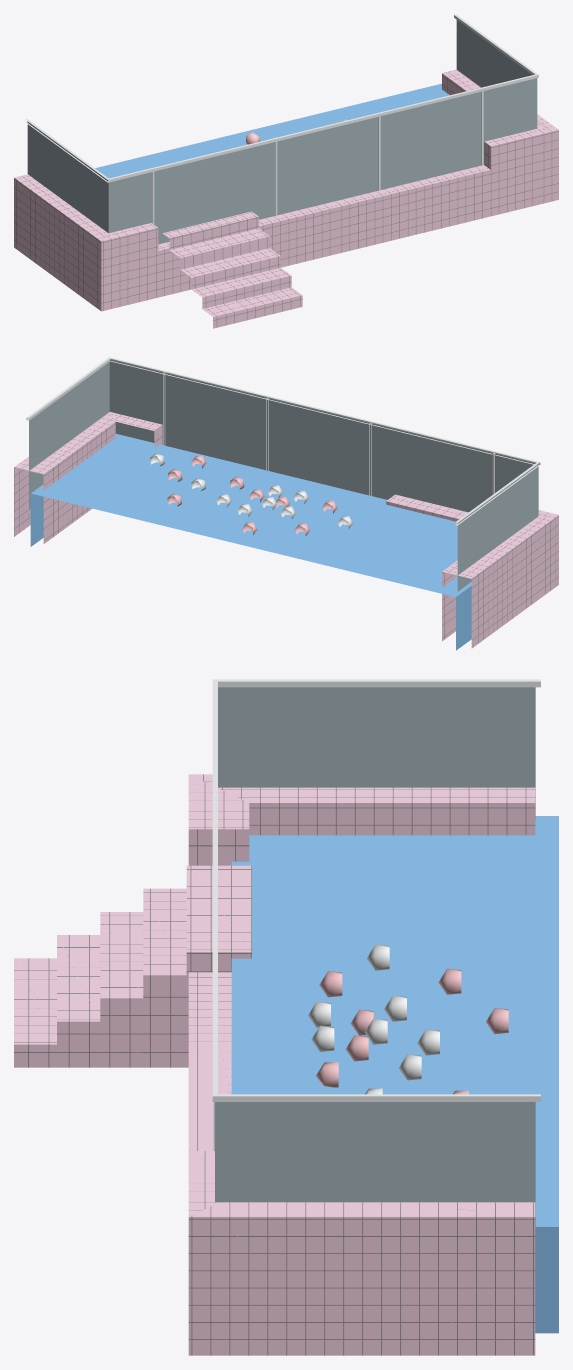
Rendered from M_yongchi01.FBX.
The picture shows the model from 3 angles, top to bottom: view 1: azimuth 30°, elevation 25°; view 2: azimuth 150°, elevation 25°; view 3: azimuth 270°, elevation 25°; orthographic projection. The views are drawn at different scales.
Parts seen in each view (by area): view 1: M_yongchi01_01, M_yongchi01_02, M_yongchi01_04, M_yongchi01_03; view 2: M_yongchi01_02, M_yongchi01_04, M_yongchi01_01, M_yongchi01_03, M_yongchi01_05; view 3: M_yongchi01_01, M_yongchi01_04, M_yongchi01_02, M_yongchi01_03, M_yongchi01_05.
Part boxes in pixels (x1=…): M_yongchi01_01: x1=14, y1=69, x2=558, y2=328; M_yongchi01_02: x1=27, y1=20, x2=537, y2=244; M_yongchi01_04: x1=95, y1=83, x2=449, y2=178; M_yongchi01_03: x1=25, y1=14, x2=538, y2=224; M_yongchi01_02: x1=29, y1=359, x2=538, y2=591; M_yongchi01_04: x1=30, y1=433, x2=471, y2=650; M_yongchi01_01: x1=14, y1=412, x2=558, y2=648; M_yongchi01_03: x1=26, y1=357, x2=540, y2=525; M_yongchi01_05: x1=150, y1=453, x2=353, y2=535; M_yongchi01_01: x1=14, y1=774, x2=535, y2=1355; M_yongchi01_04: x1=231, y1=816, x2=558, y2=1333; M_yongchi01_02: x1=215, y1=687, x2=535, y2=1279; M_yongchi01_03: x1=212, y1=679, x2=540, y2=1150; M_yongchi01_05: x1=308, y1=944, x2=508, y2=1094.
Size of the model in its own units: 8.12 by 2.13 by 4.23.
